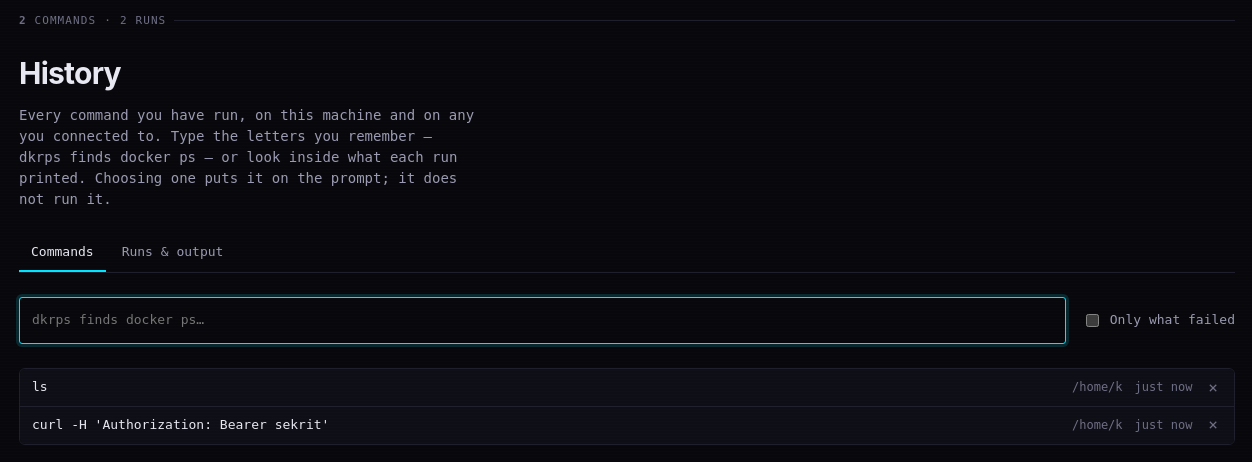
the history section › forgets every run of a command, not the row being looked at
This screenshot has width=1252, height=462.
Click the button named "Forget every run of curl -H 'Authorization: Bearer sekrit'" at (1213, 425), box [1204,417,1222,433]
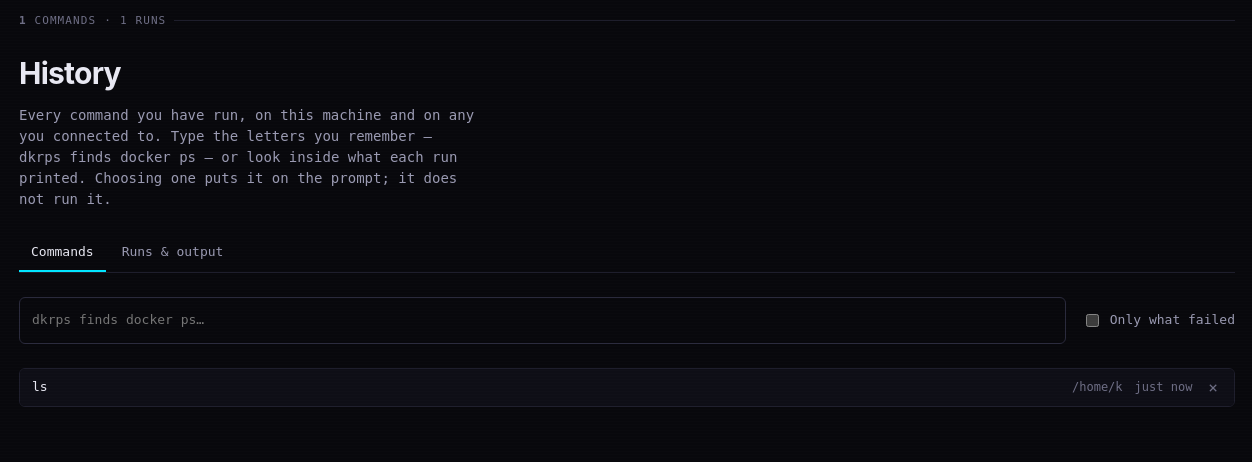
Check: the button "Authorization" is gone
